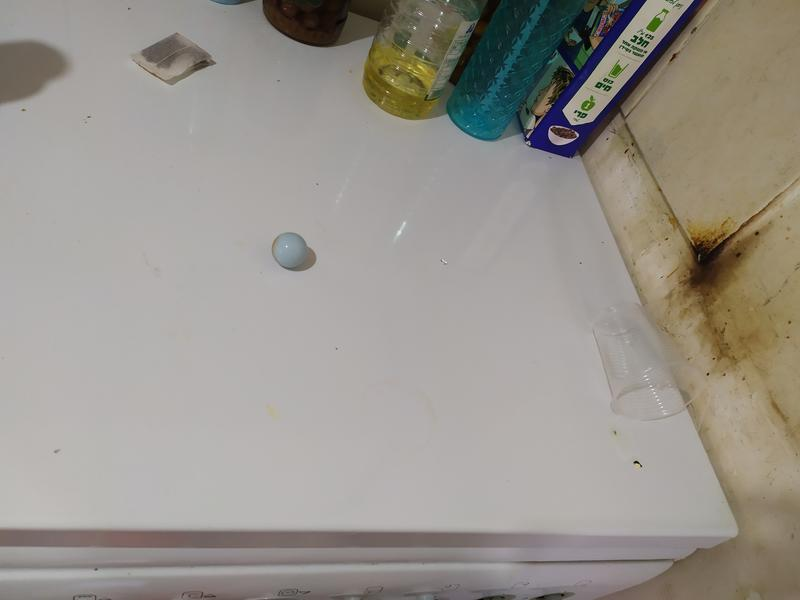Warning: (270, 230, 310, 271)
